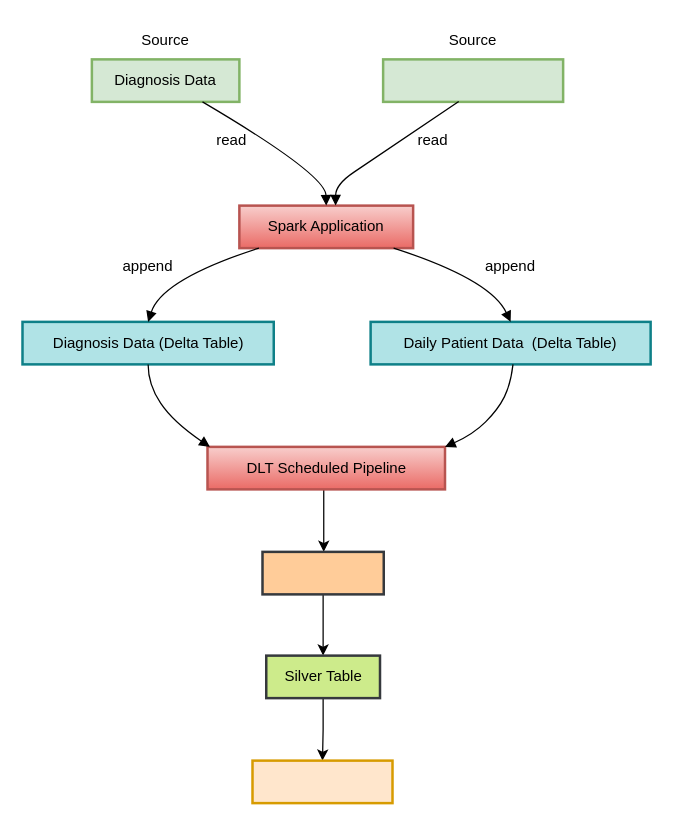
Image size: 674x825. Some labels were removed from this diagram. Each missing label, with the box of its shape:
Bronze Table: (261, 550, 384, 595)
Daily Patient Data: (381, 58, 564, 102)
Gold Table: (251, 759, 393, 804)
